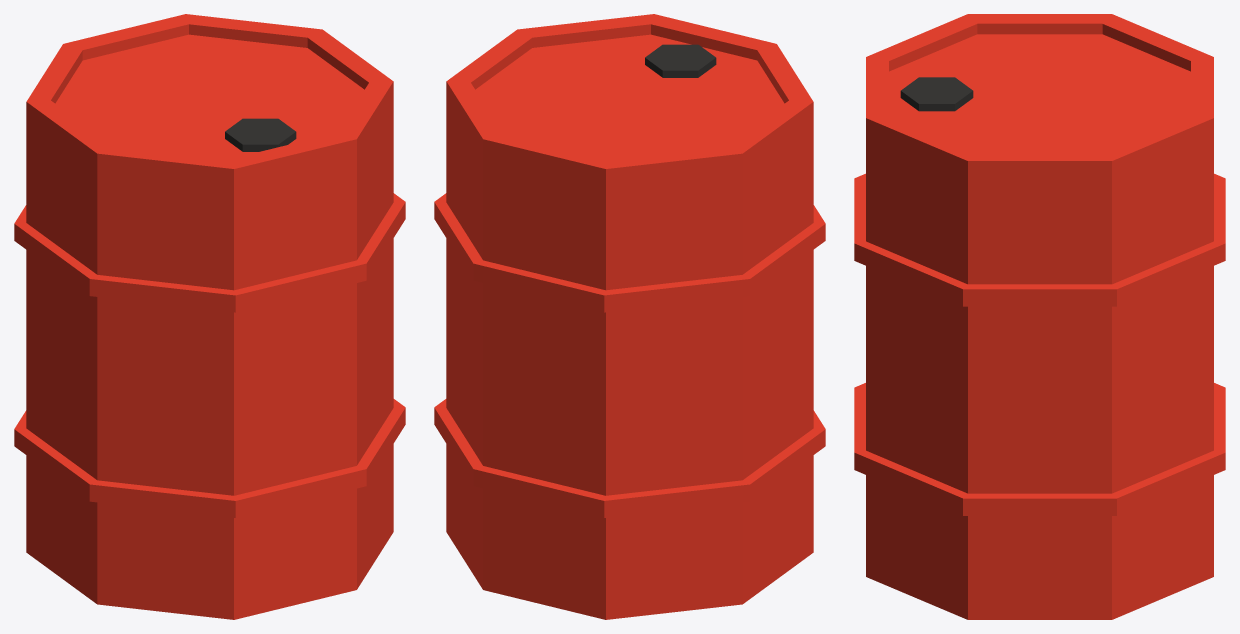
File: Fuel_Barrel.fbx
The picture shows the model from 3 angles, left to right: view 1: azimuth 30°, elevation 25°; view 2: azimuth 150°, elevation 25°; view 3: azimuth 270°, elevation 25°; orthographic projection.
Parts seen in each view (by area): view 1: Fuel_Barrel; view 2: Fuel_Barrel; view 3: Fuel_Barrel.
Part boxes in pixels (x1=…): Fuel_Barrel: x1=14, y1=14, x2=405, y2=619; Fuel_Barrel: x1=434, y1=14, x2=825, y2=619; Fuel_Barrel: x1=854, y1=14, x2=1225, y2=619.
Size of the model in its own units: 69.41 by 94.67 by 69.41.
1 material, 1 textured.
